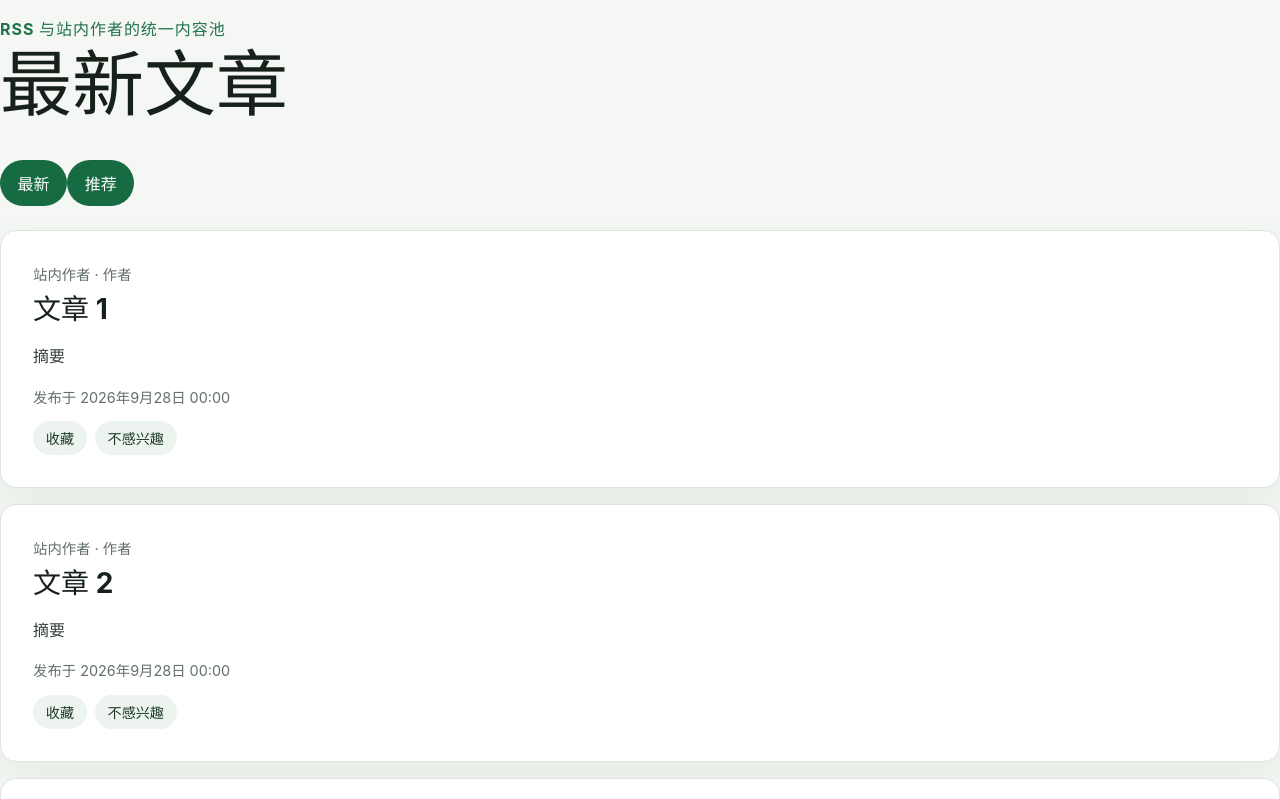
Test case: latest 文章反馈卡片 › 推荐切换、翻页、降级和空内容状态
The image size is (1280, 799).
Step 1. Click the button "推荐" → click(101, 183), box [67,160,134,206]
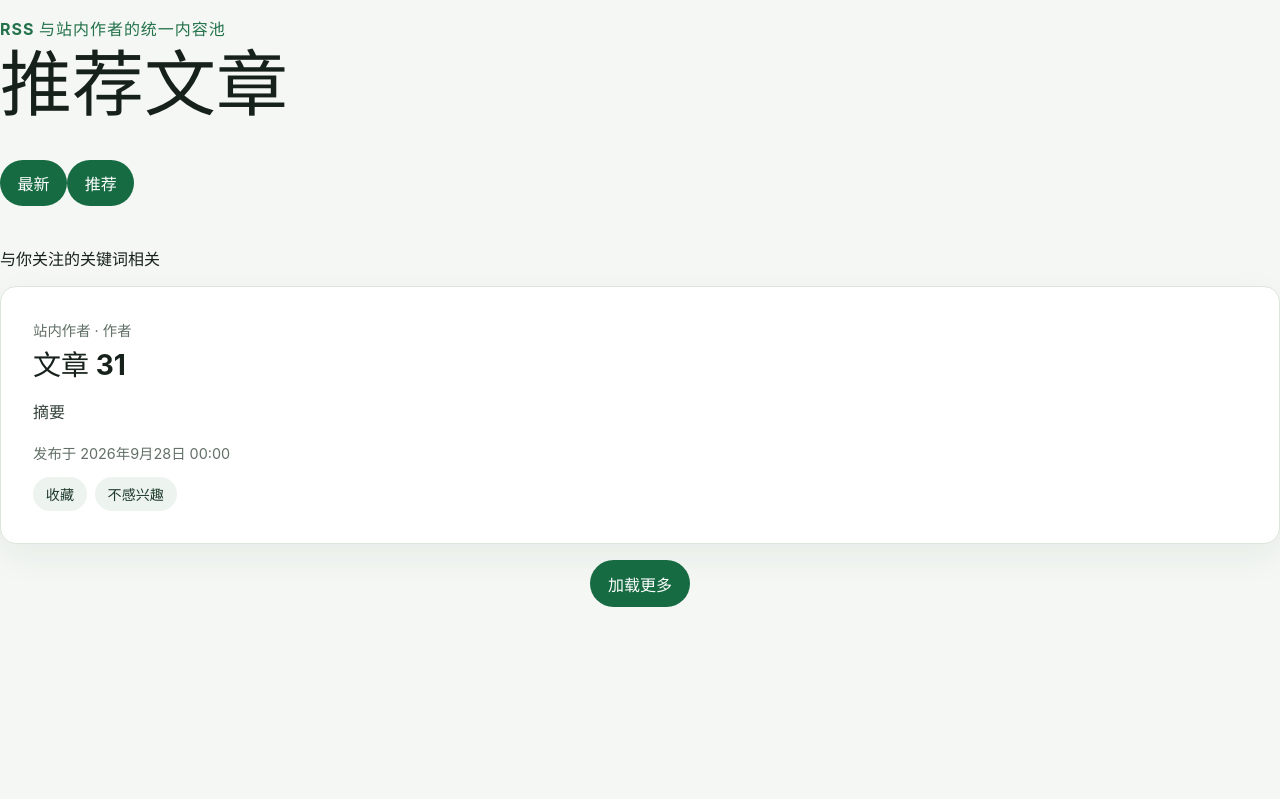
Check: the text "与你关注的关键词相关" is shown, box [0,249,160,269]
Step 2. Click the button with class "load-more" → click(640, 584), box [590,560,690,607]
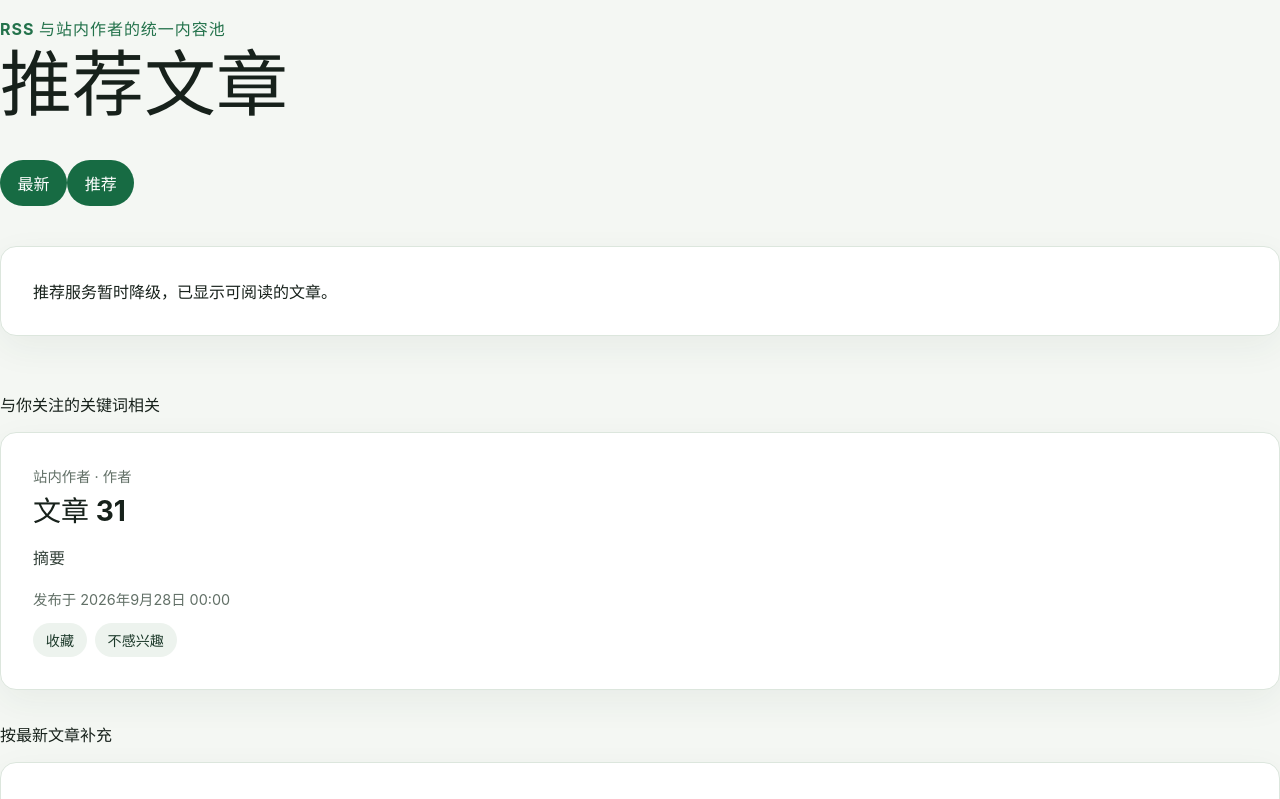
Check: the text "推荐服务暂时降级" is shown, box [33,282,337,302]
Check: the text "按最新文章补充" is shown, box [0,725,112,745]
Step 3. Click the button "最新" → click(34, 183), box [0,160,67,206]
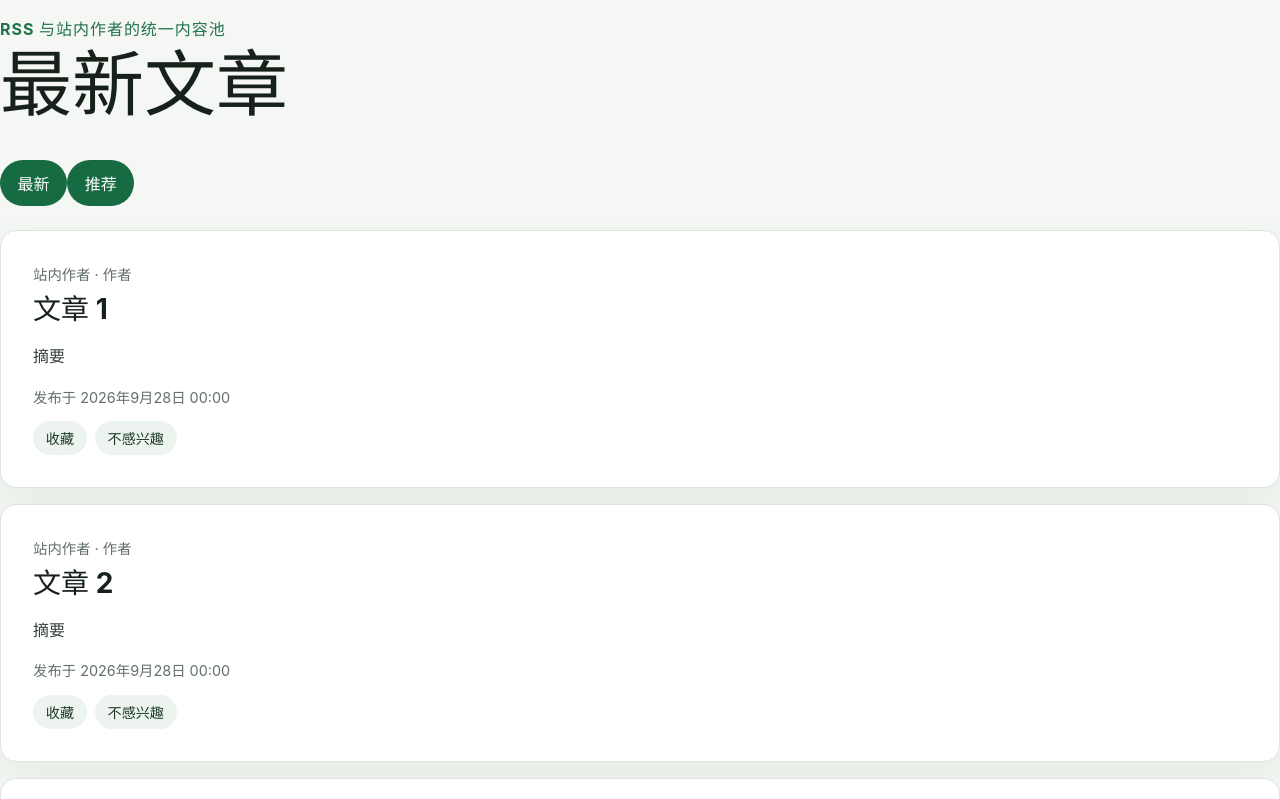
Check: the text "按最新文章补充" is gone
Step 4. Click the button "推荐" → click(101, 183), box [67,160,134,206]
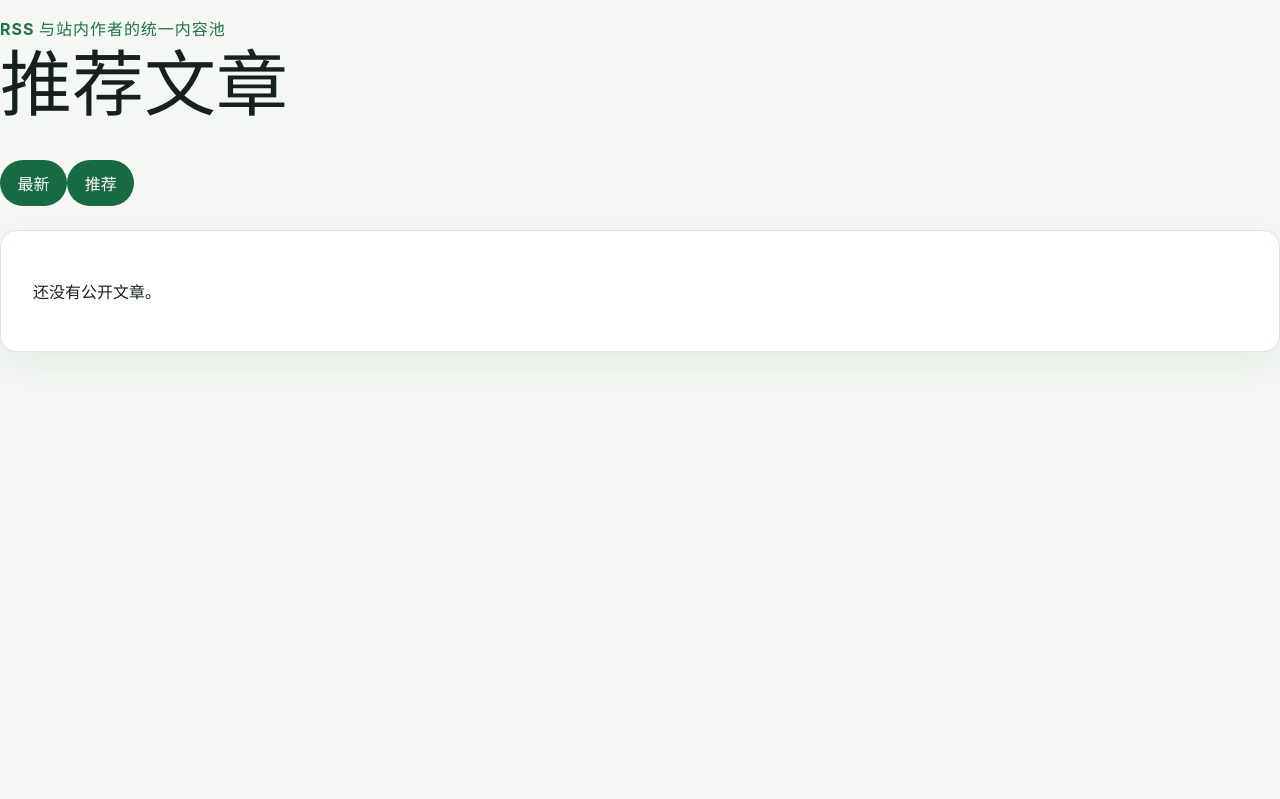
Check: the text "还没有公开文章" is shown, box [33,282,161,302]
